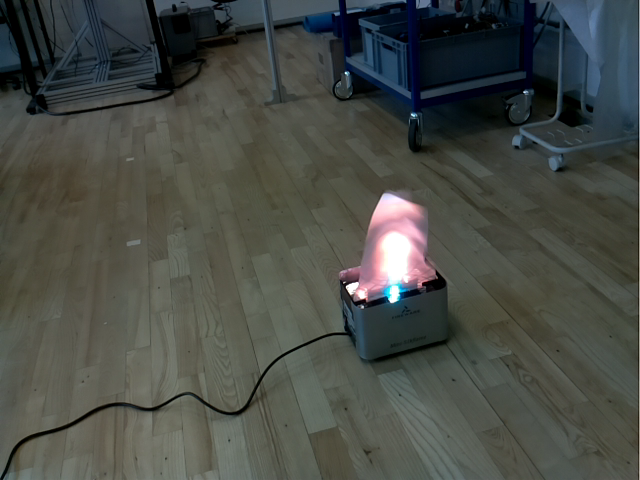fire: (344, 189, 443, 297)
